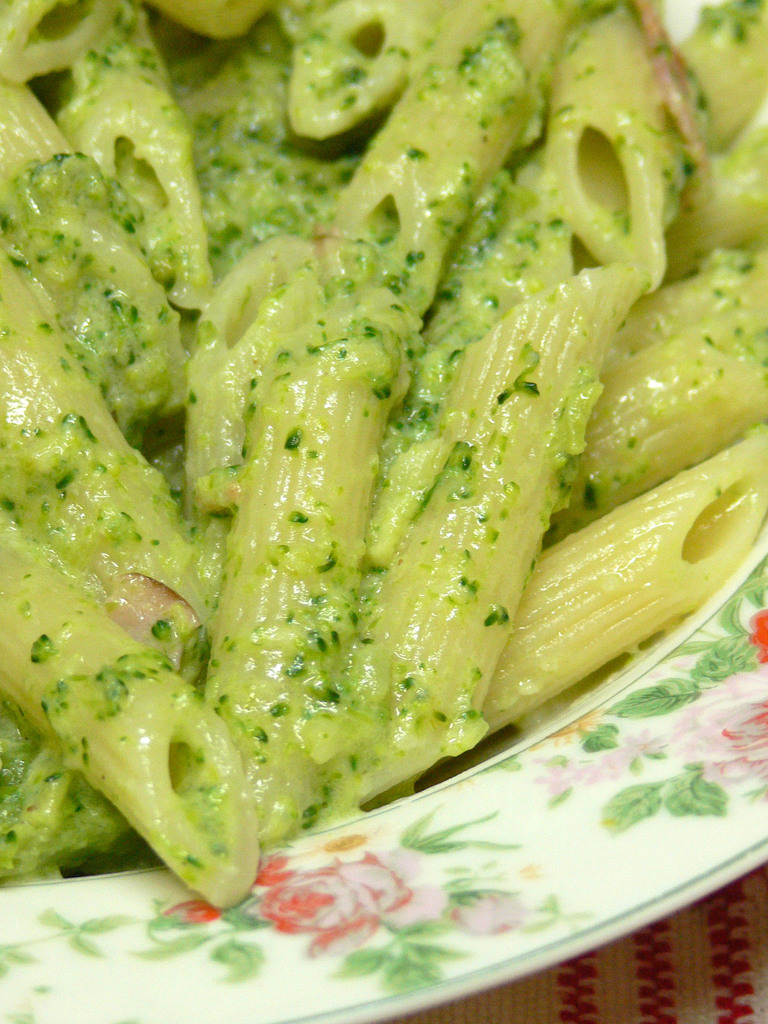pasta: (0, 0, 767, 906)
